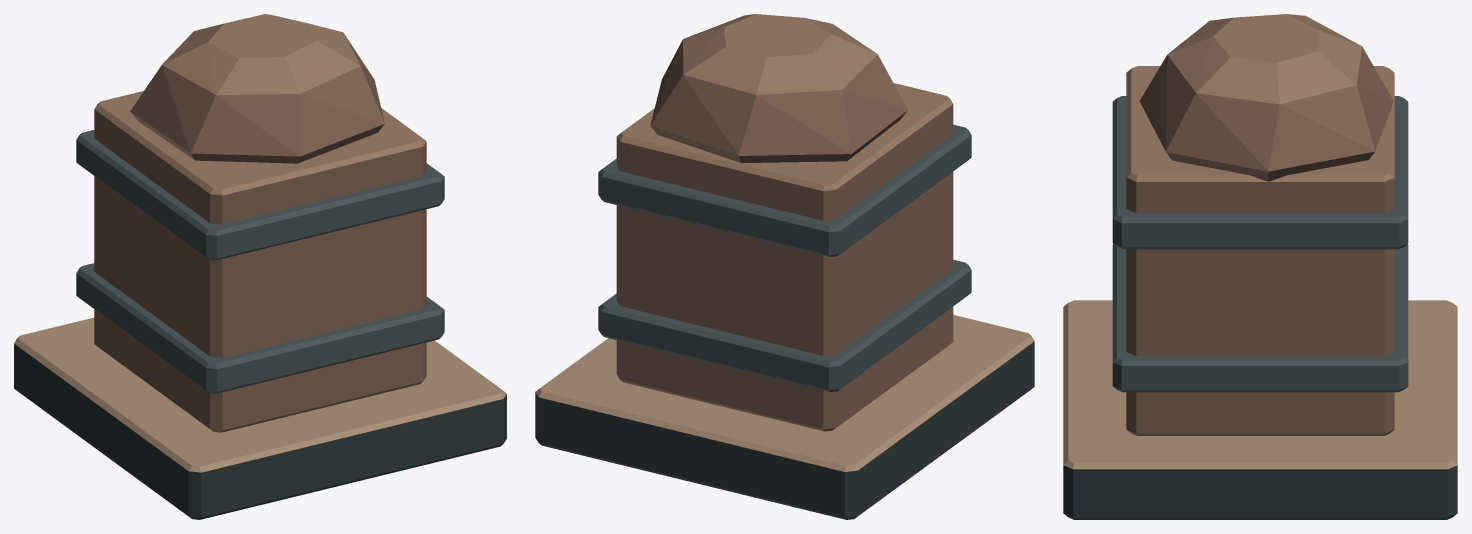
File: pillar-broken.glb
3 views of the same model, side by side, from view 1: azimuth 30°, elevation 25°; view 2: azimuth 150°, elevation 25°; view 3: azimuth 270°, elevation 25° (orthographic). The views are drawn at different scales.
Visible parts, largest first — view 1: pillar-broken__body; view 2: pillar-broken__body; view 3: pillar-broken__body.
Boxes of the visible parts, box(x1,y1,x2,y2) form: pillar-broken__body: box(14, 14, 506, 519); pillar-broken__body: box(535, 14, 1034, 519); pillar-broken__body: box(1063, 14, 1457, 519).
Size of the model in its own units: 1 by 1.13 by 1.
